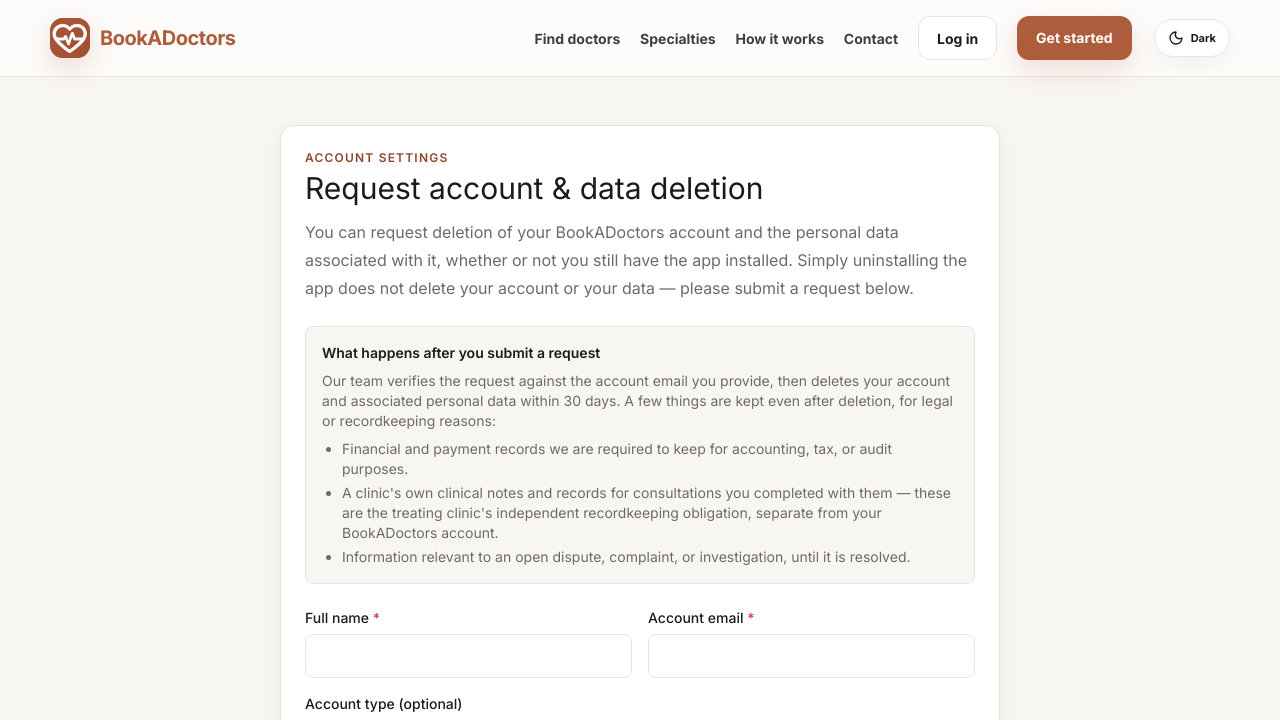
Test case: AccountDeletion › shows an inline error and keeps the form usable when the submission fails
The width and height of the screenshot is (1280, 720).
Type "Asha Mehta" into the field labelled "Full name *" at (468, 656), box [305, 634, 632, 678]
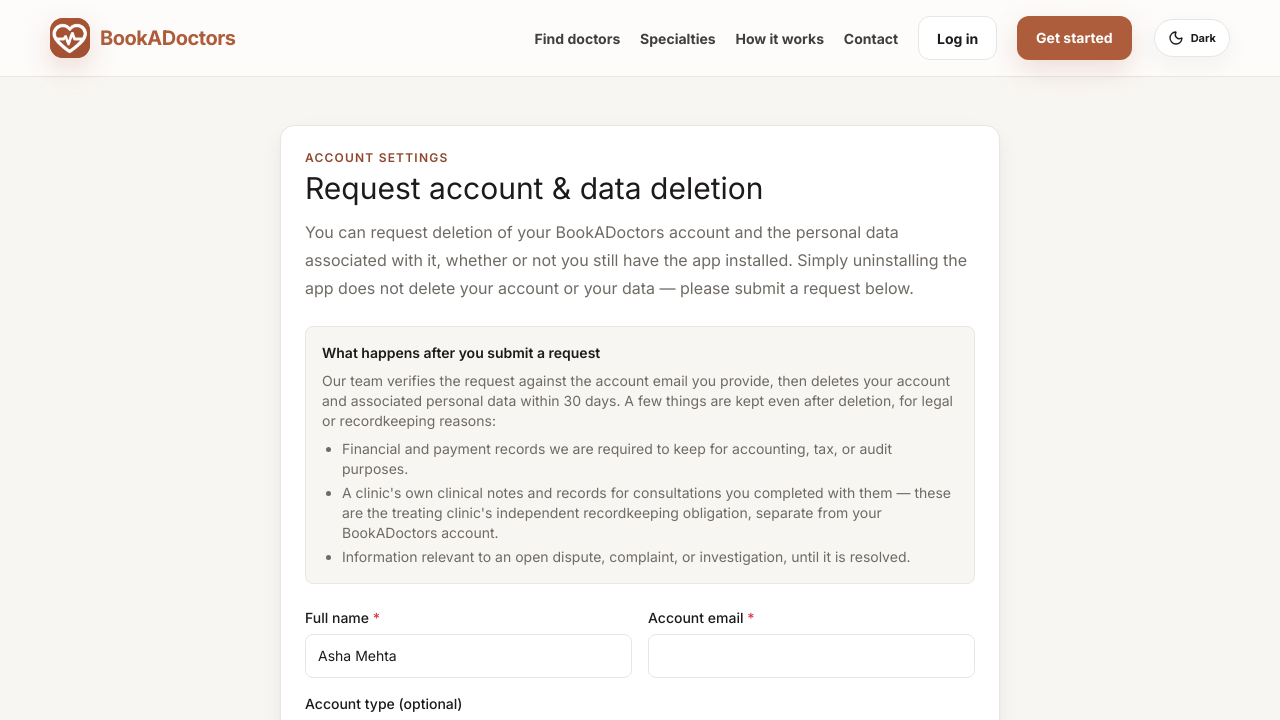
Type "asha@example.com" into the field labelled "Account email *" at (812, 656), box [648, 634, 975, 678]
(page scrolled)
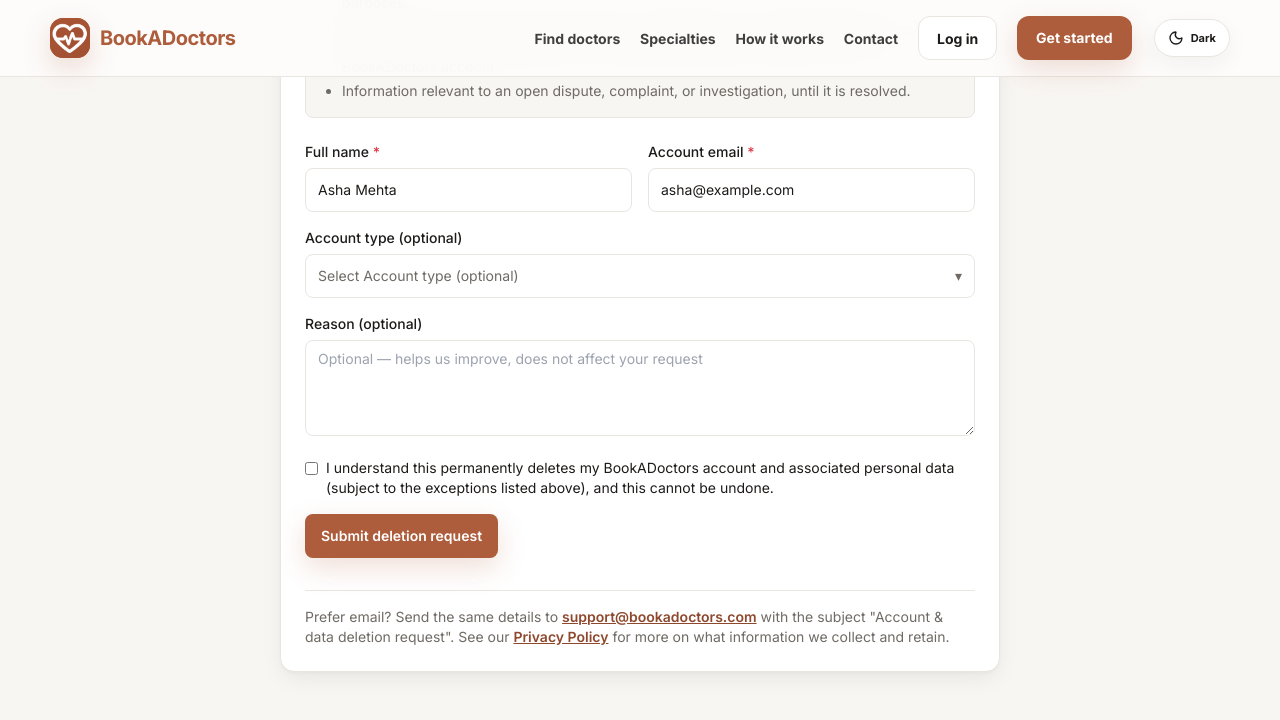
Click the checkbox at (312, 468), box [305, 462, 318, 475]
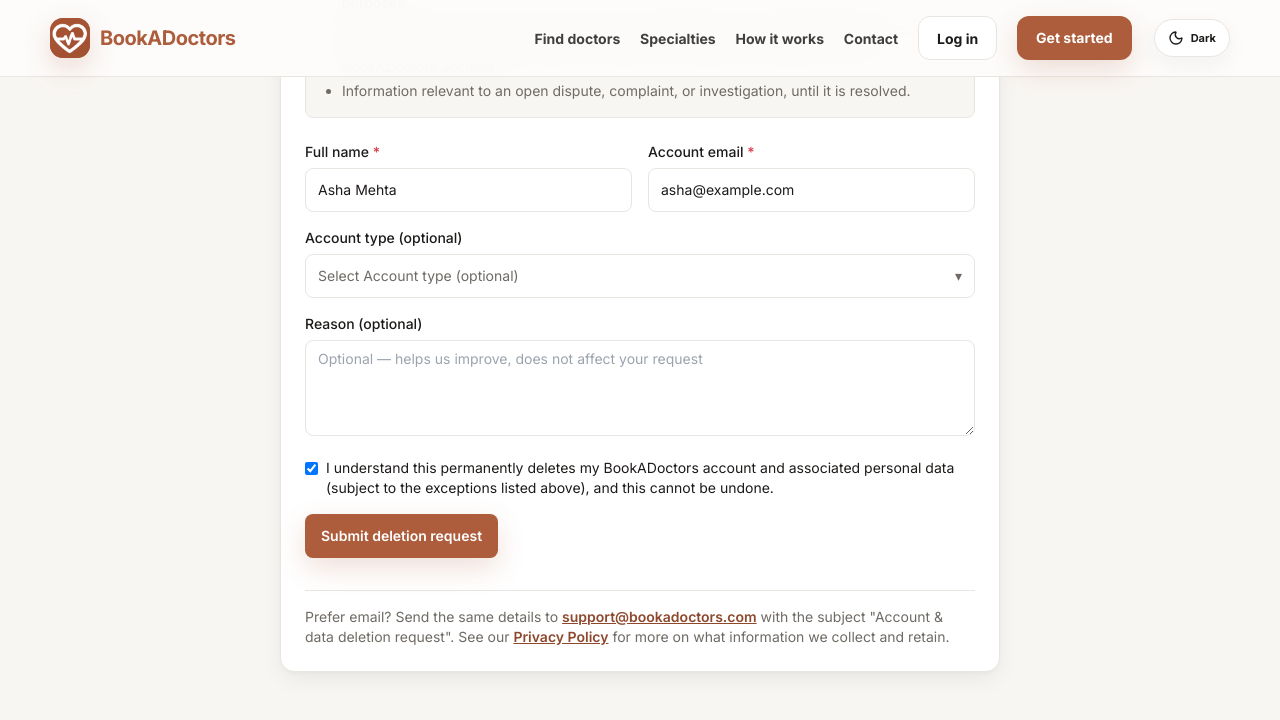
Click the button "Submit deletion request" at (402, 536), box [305, 514, 498, 558]
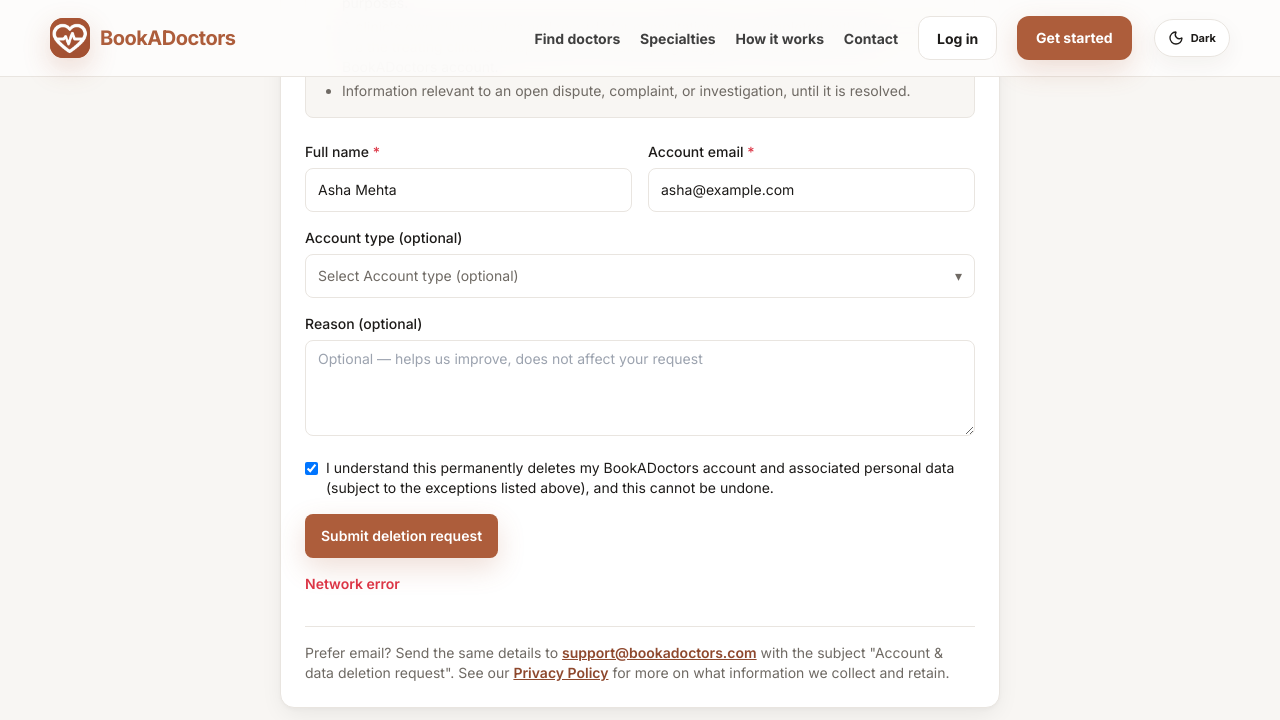
Expected: the text "Network error" is shown, [305, 575, 400, 592]
